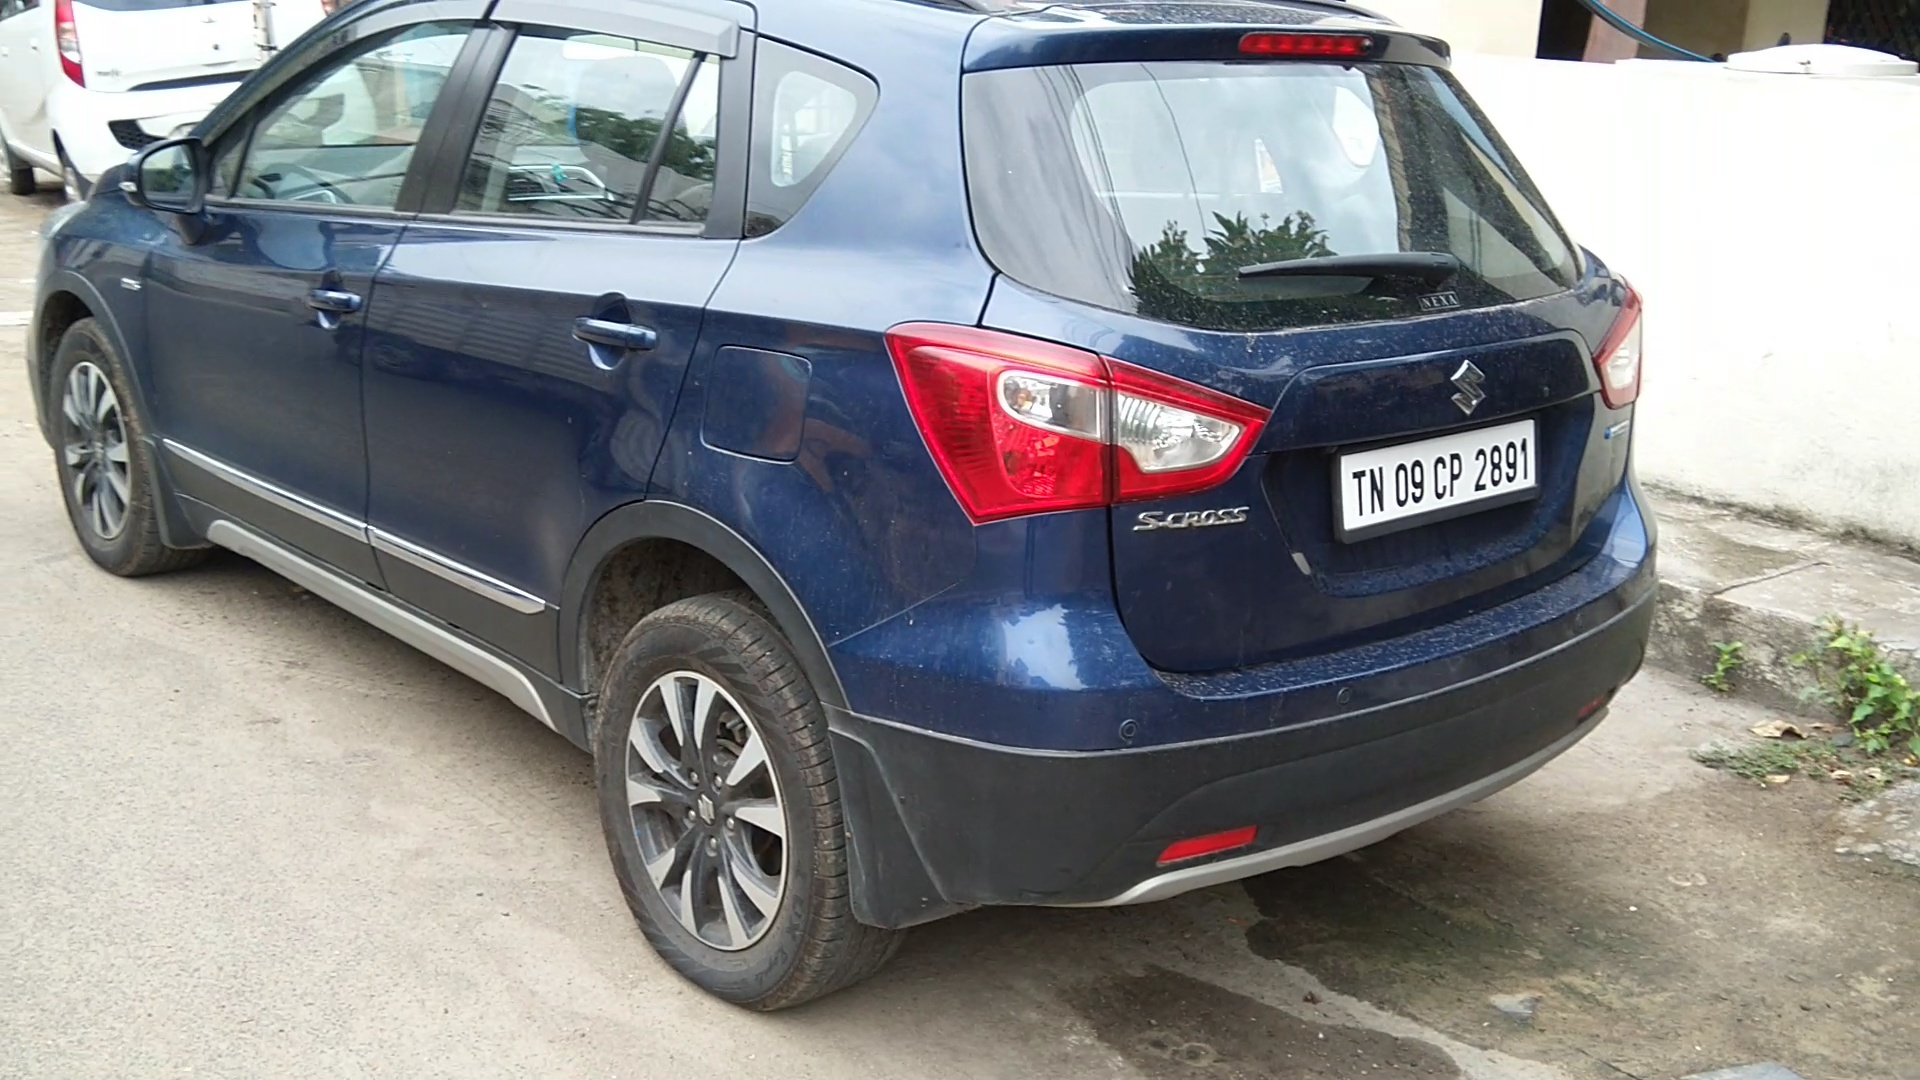alloy_wheel: (593, 599, 861, 1011), (50, 313, 153, 566)
ovr_mirror: (113, 140, 211, 219)
rear_camera: (1346, 32, 1391, 61)
